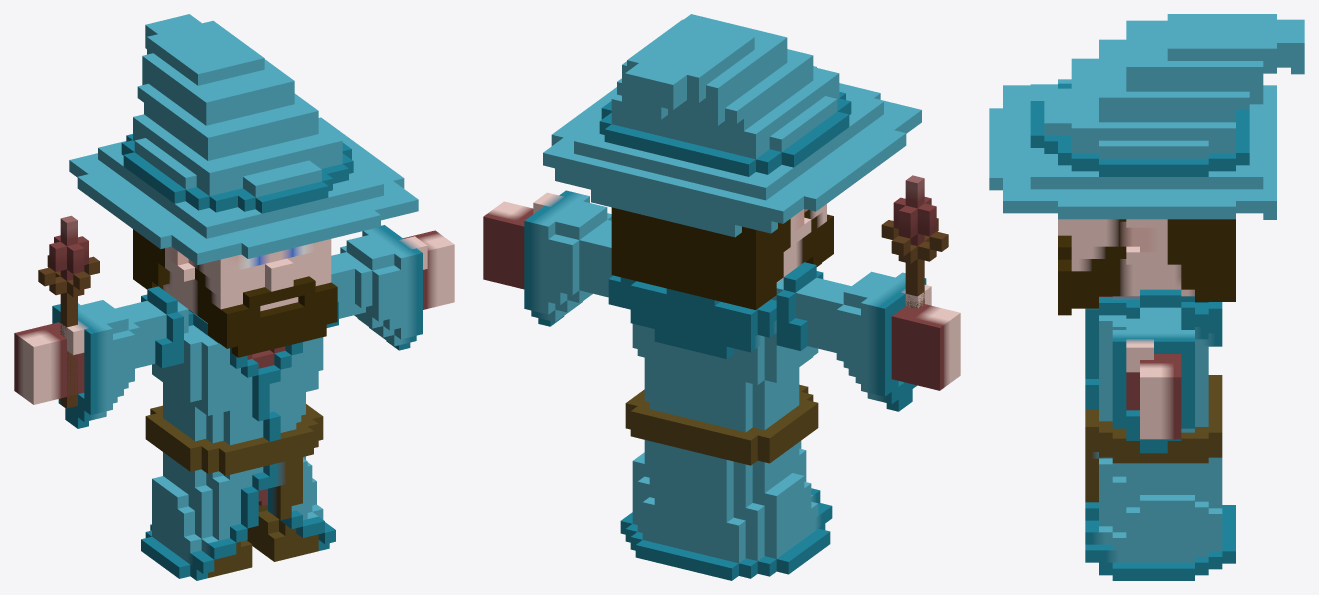
File: Wizard.fbx
3 renders of one model, left to right at view 1: azimuth 30°, elevation 25°; view 2: azimuth 150°, elevation 25°; view 3: azimuth 270°, elevation 25°, orthographic. The views are drawn at different scales.
Visible parts, largest first — view 1: HairHelmet_2, Belt_1, Head_1, Chest_1, Matrix_434, Matrix_437, Matrix_436, Union_7, Matrix_433, HairHelmet_3, Union_8, Matrix_432; view 2: HairHelmet_2, Belt_1, Chest_1, Matrix_434, HairHelmet_3, Matrix_437, Union_7, Matrix_436, Head_1, Union_8; view 3: HairHelmet_2, Belt_1, Matrix_437, Head_1, Chest_1, HairHelmet_3, Union_8.
Part boxes in pixels (<box>): HairHelmet_2: <box>69,14,418,265</box>; Belt_1: <box>141,404,335,580</box>; Head_1: <box>163,239,337,357</box>; Chest_1: <box>152,309,323,445</box>; Matrix_434: <box>14,300,139,428</box>; Matrix_437: <box>336,225,454,350</box>; Matrix_436: <box>38,215,99,408</box>; Union_7: <box>115,286,188,368</box>; Matrix_433: <box>247,504,318,561</box>; HairHelmet_3: <box>133,229,169,289</box>; Union_8: <box>326,254,365,327</box>; Matrix_432: <box>208,540,252,577</box>; HairHelmet_2: <box>543,14,921,237</box>; Belt_1: <box>620,384,832,580</box>; Chest_1: <box>625,278,818,432</box>; Matrix_434: <box>831,271,960,411</box>; HairHelmet_3: <box>611,207,790,309</box>; Matrix_437: <box>483,190,611,326</box>; Union_7: <box>771,262,851,352</box>; Matrix_436: <box>881,175,948,308</box>; Head_1: <box>776,204,833,282</box>; Union_8: <box>579,228,630,309</box>; HairHelmet_2: <box>989,14,1304,219</box>; Belt_1: <box>1085,375,1235,580</box>; Matrix_437: <box>1112,318,1194,453</box>; Head_1: <box>1058,219,1194,315</box>; Chest_1: <box>1085,296,1222,432</box>; HairHelmet_3: <box>1167,219,1235,301</box>; Union_8: <box>1126,289,1194,329</box>.
Size of the model in its own units: 38 by 41 by 23.
1 material, 1 textured.
